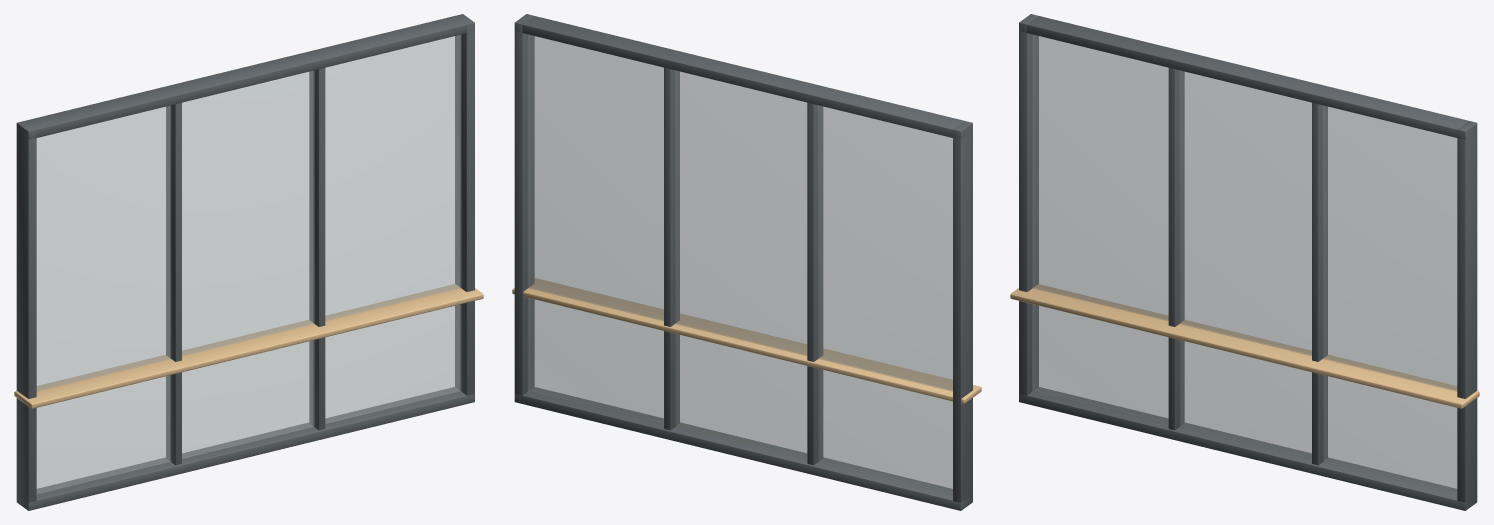
File: architecture.window-city.glb
The picture shows the model from 3 angles, left to right: view 1: azimuth 30°, elevation 25°; view 2: azimuth 150°, elevation 25°; view 3: azimuth 330°, elevation 25°; orthographic projection.
Visible parts, largest first — view 1: architecture.window-city; view 2: architecture.window-city; view 3: architecture.window-city.
Boxes of the visible parts, bbox=[...] form: architecture.window-city: bbox=[14, 14, 483, 510]; architecture.window-city: bbox=[512, 14, 981, 510]; architecture.window-city: bbox=[1010, 14, 1479, 510].
Size of the model in its own units: 3.24 by 2.6 by 0.225.
